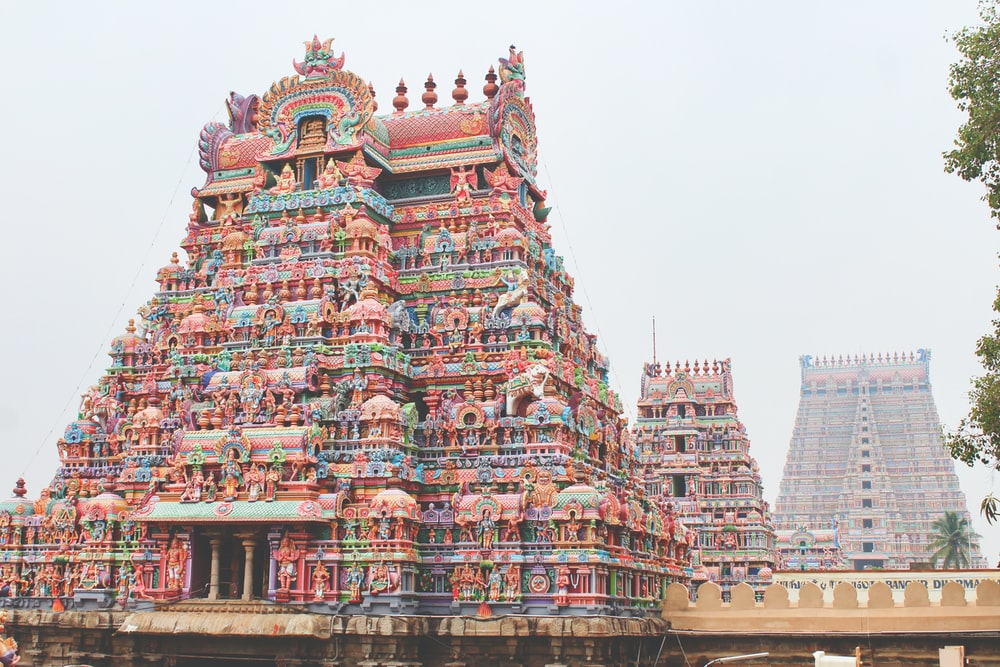Temple: (31, 43, 679, 619), (768, 343, 983, 574), (608, 343, 786, 585)
